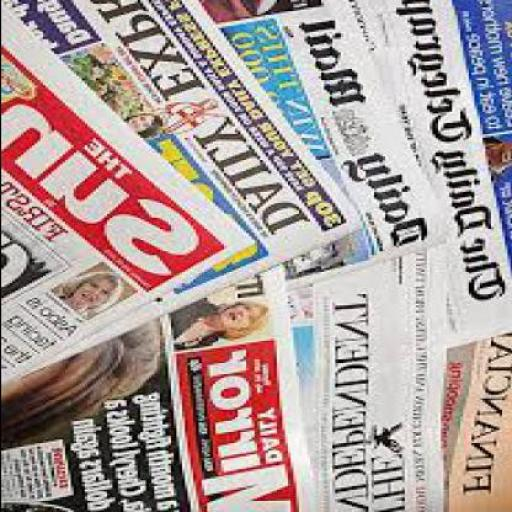paper: (6, 2, 358, 368), (3, 2, 259, 383), (164, 7, 445, 293), (2, 266, 322, 511), (175, 247, 448, 511), (369, 1, 511, 352), (450, 331, 511, 511)
